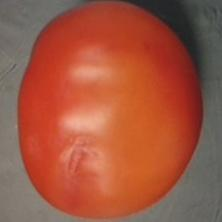unripe: (17, 1, 209, 222)
